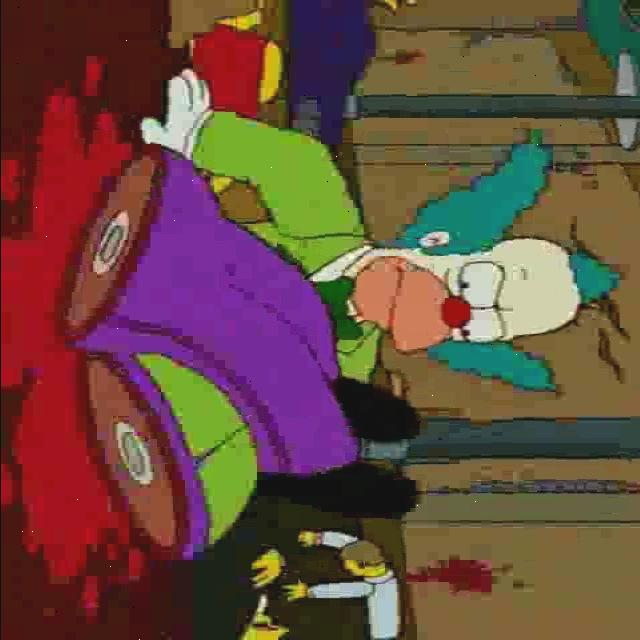Krusty the Clown: (346, 135, 620, 397)
